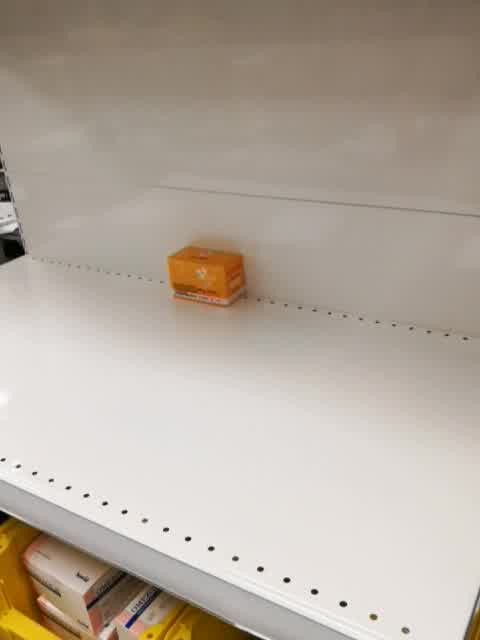jasminetea: (167, 245, 247, 308)
